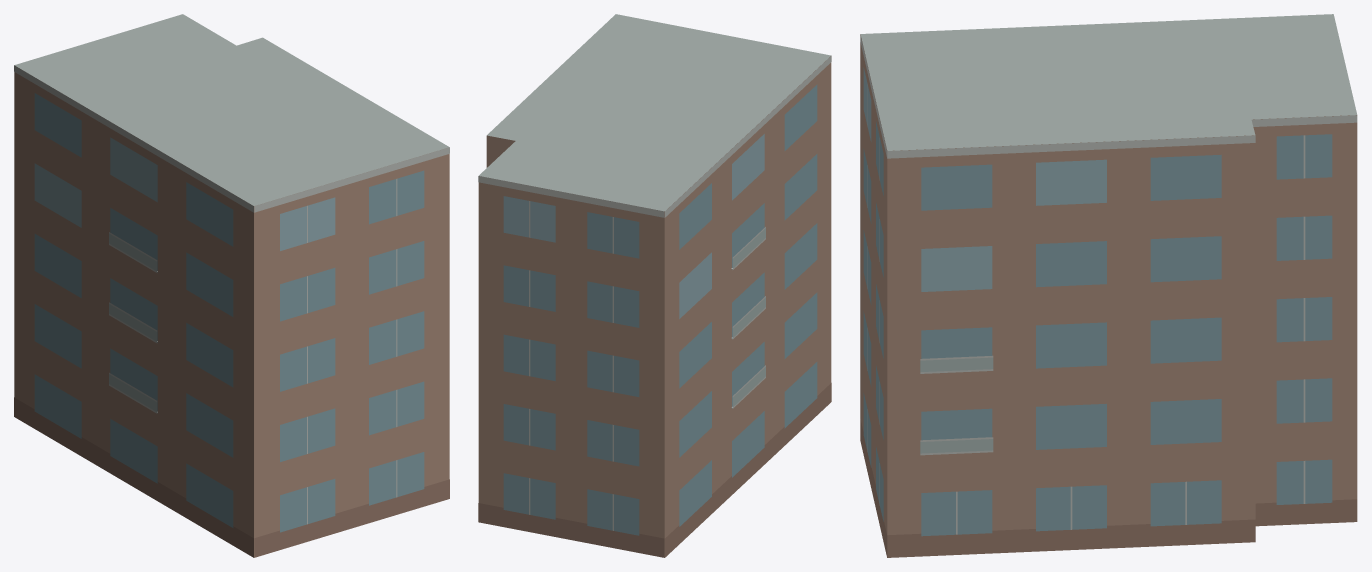
File: survey-upis-32616124.glb
3 views of the same model, side by side, from view 1: azimuth 30°, elevation 25°; view 2: azimuth 150°, elevation 25°; view 3: azimuth 270°, elevation 25° (orthographic). The views are drawn at different scales.
Parts seen in each view (by area): view 1: survey-upis-32616124.tmp; view 2: survey-upis-32616124.tmp; view 3: survey-upis-32616124.tmp.
Part boxes in pixels (box(x1,y1,x2,y2)): survey-upis-32616124.tmp: box(14, 14, 449, 557); survey-upis-32616124.tmp: box(478, 14, 831, 557); survey-upis-32616124.tmp: box(860, 14, 1357, 557).
Size of the model in its own units: 9.4 by 13 by 14.4.
